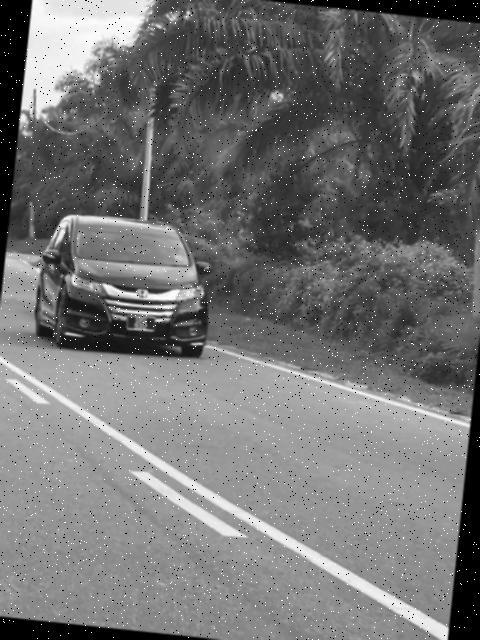License_Plate: (125, 313, 159, 336)
car: (34, 198, 217, 362)
